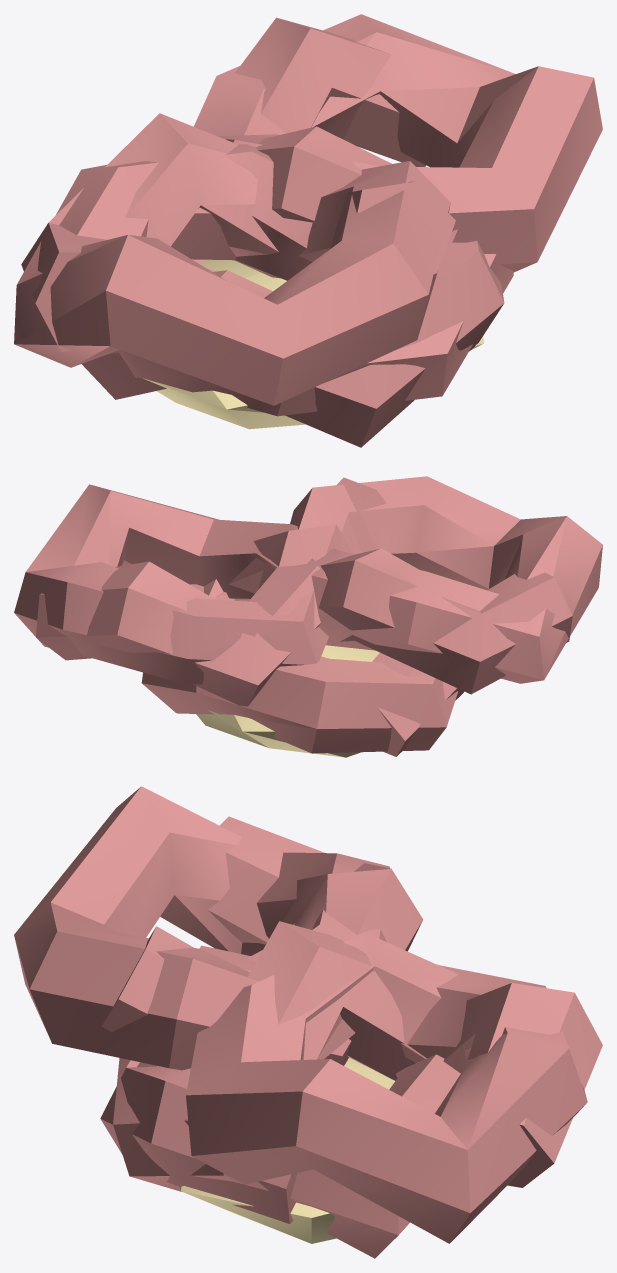
File: gut_cluster.glb
3 views of the same model, one above another, from view 1: azimuth 30°, elevation 25°; view 2: azimuth 150°, elevation 25°; view 3: azimuth 270°, elevation 25° (orthographic). The views are drawn at different scales.
Visible parts, largest first — view 1: OUT; view 2: OUT; view 3: OUT.
Part boxes in pixels (x1,y1,x2,y2): OUT: [14, 14, 602, 447]; OUT: [14, 476, 602, 757]; OUT: [14, 786, 602, 1258].
Bounding box in the file's own units: 0.2865 × 0.1259 × 0.2346.
